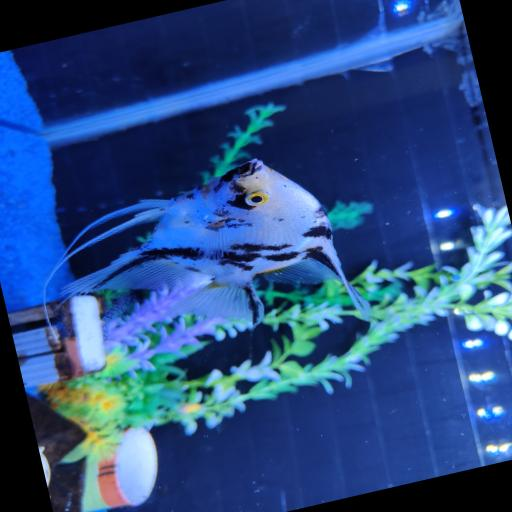Fish: (57, 160, 369, 325)
